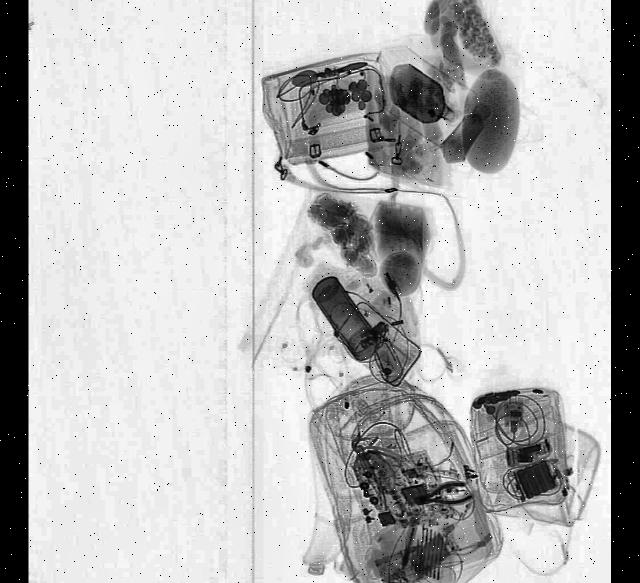Pliers: (412, 480, 472, 511)
